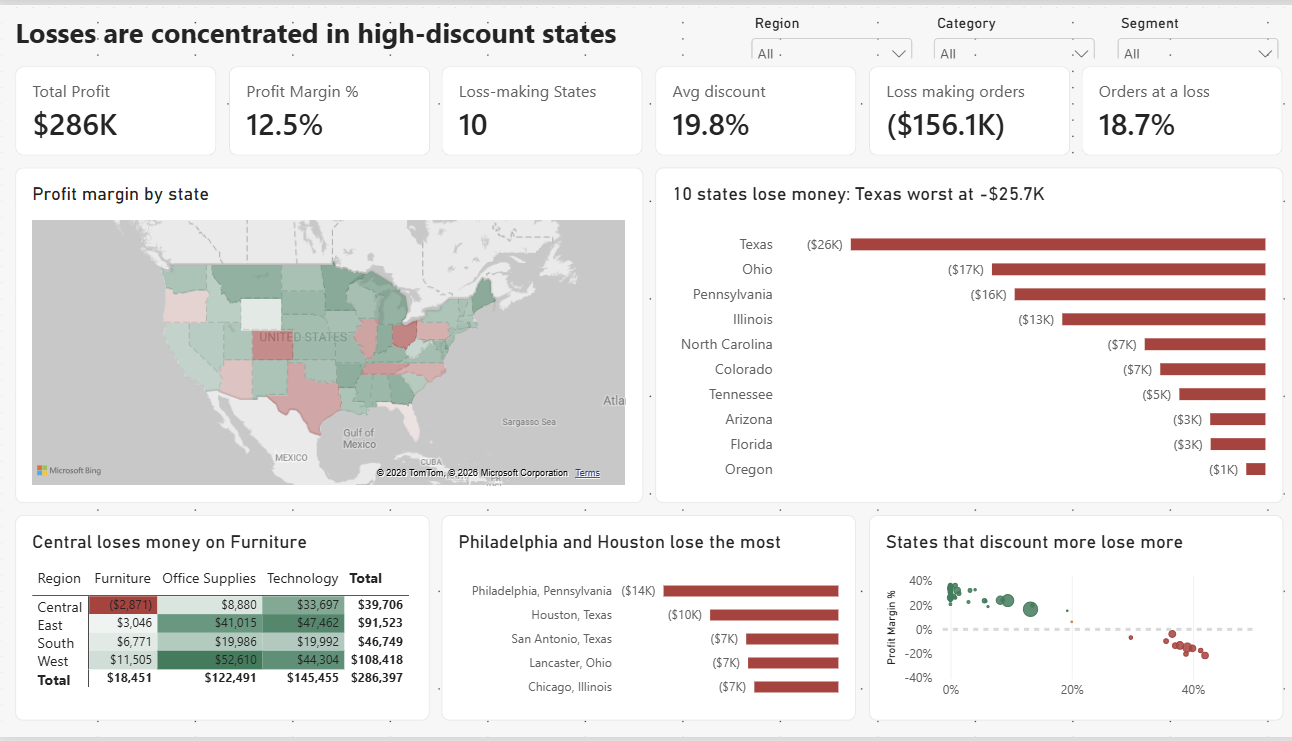

Layout of this report page (visuals, bound fields, positions):
{"tool":"powerbi","page":{"name":"Regional","canvas":[1280,720],"ordinal":2},"visuals":[{"type":"textbox","box":[16,8,700,44],"z":0},{"type":"slicer","fields":{"Values":["Superstore.Category"]},"box":[916,8,168,44],"z":1000},{"type":"slicer","fields":{"Values":["Superstore.Region"]},"box":[736,8,168,44],"z":2000},{"type":"slicer","fields":{"Values":["Superstore.Segment"]},"box":[1096,8,168,44],"z":3000},{"type":"cardVisual","fields":{"Data":["_Measures.Total Profit"]},"box":[16,60,198,88],"z":4000},{"type":"cardVisual","fields":{"Data":["_Measures.Profit Margin %"]},"box":[226,60,198,88],"z":5000},{"type":"cardVisual","fields":{"Data":["_Measures.Loss-making States"]},"box":[436,60,198,88],"z":6000},{"type":"cardVisual","fields":{"Data":["_Measures.Weighted Discount %"]},"box":[646,60,198,88],"z":7000},{"type":"cardVisual","fields":{"Data":["_Measures.Loss Value"]},"box":[856,60,198,88],"z":8000},{"type":"cardVisual","fields":{"Data":["_Measures.Loss Line %"]},"box":[1066,60,198,88],"z":9000},{"type":"filledMap","title":"Profit margin by state","fields":{"Category":["Superstore.State Location"]},"box":[16,160,618,330],"z":10000},{"type":"clusteredBarChart","title":"10 states lose money: Texas worst at -$25.7K","fields":{"Category":["Superstore.State"],"Y":["_Measures.Total Profit"]},"box":[646,160,618,330],"z":11000},{"type":"pivotTable","title":"Central loses money on Furniture","fields":{"Columns":["Superstore.Category"],"Rows":["Superstore.Region"],"Values":["_Measures.Total Profit"]},"box":[16,502,408,202],"z":12000},{"type":"clusteredBarChart","title":"Philadelphia and Houston lose the most","fields":{"Category":["Superstore.City Key"],"Y":["_Measures.Total Profit"]},"box":[436,502,408,202],"z":13000},{"type":"scatterChart","title":"States that discount more lose more","fields":{"Category":["Superstore.State"],"Size":["_Measures.Total Sales"],"X":["_Measures.Weighted Discount %"],"Y":["_Measures.Profit Margin %"]},"box":[856,502,408,202],"z":14000}]}

Visuals, with their boxes in screenshot pixels (x1, y1, x2, y2), scaled from the page's 1280x720 canvas onto the 1292x741 screenshot:
textbox: [16, 8, 723, 54]
slicer - Superstore.Category: [925, 8, 1094, 54]
slicer - Superstore.Region: [743, 8, 912, 54]
slicer - Superstore.Segment: [1106, 8, 1276, 54]
cardVisual - _Measures.Total Profit: [16, 62, 216, 152]
cardVisual - _Measures.Profit Margin %: [228, 62, 428, 152]
cardVisual - _Measures.Loss-making States: [440, 62, 640, 152]
cardVisual - _Measures.Weighted Discount %: [652, 62, 852, 152]
cardVisual - _Measures.Loss Value: [864, 62, 1064, 152]
cardVisual - _Measures.Loss Line %: [1076, 62, 1276, 152]
"Profit margin by state" filledMap: [16, 165, 640, 504]
"10 states lose money: Texas worst at -$25.7K" clusteredBarChart: [652, 165, 1276, 504]
"Central loses money on Furniture" pivotTable: [16, 517, 428, 725]
"Philadelphia and Houston lose the most" clusteredBarChart: [440, 517, 852, 725]
"States that discount more lose more" scatterChart: [864, 517, 1276, 725]
